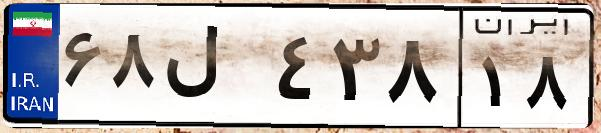1: (475, 38, 525, 113)
3: (330, 28, 385, 110)
4: (270, 28, 330, 110)
6: (57, 26, 110, 100)
8: (385, 28, 445, 110), (525, 38, 570, 115), (110, 28, 158, 98)
ل: (158, 20, 270, 120)
